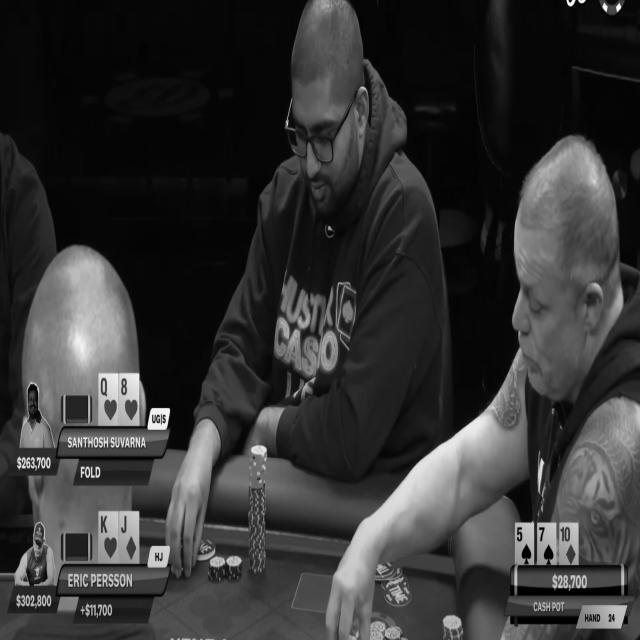10D: (560, 523, 578, 565)
5S: (516, 523, 533, 565)
7S: (538, 523, 556, 565)
8H: (120, 375, 138, 424)
JD: (120, 513, 138, 563)
KH: (99, 512, 119, 562)
QH: (98, 374, 118, 425)
